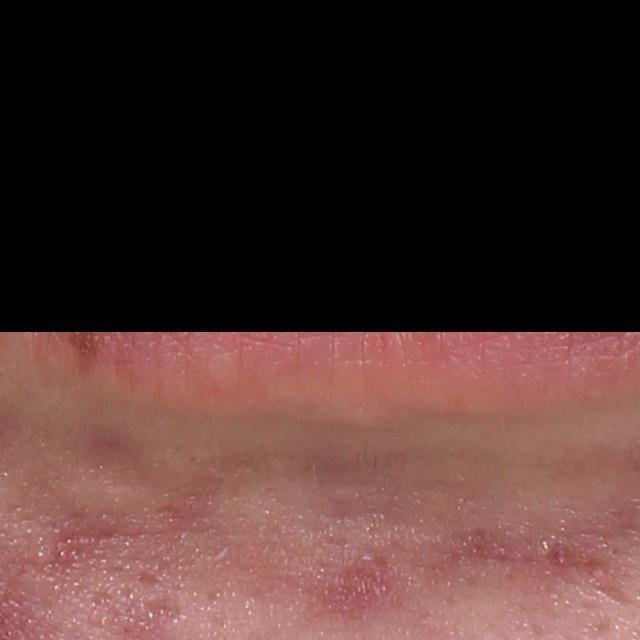atrophic_scar: (84, 431, 153, 492), (138, 595, 183, 623), (136, 571, 163, 589)
